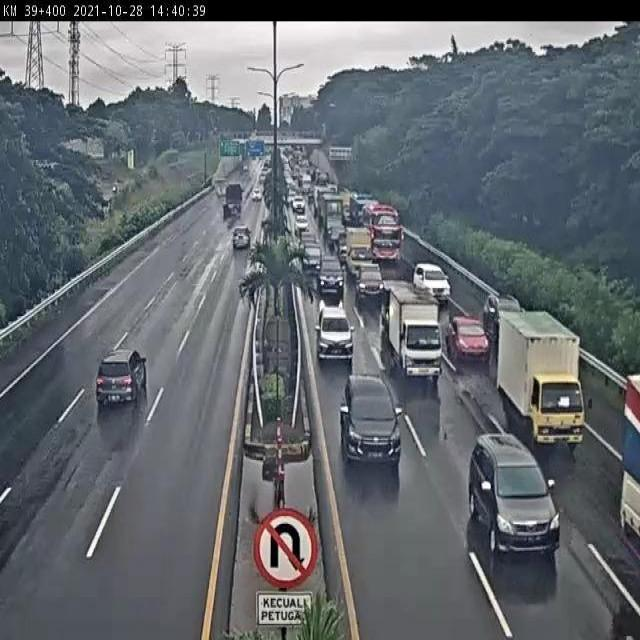car: (468, 432, 562, 555), (340, 374, 404, 462), (95, 350, 149, 406), (315, 305, 355, 364), (446, 313, 490, 360), (483, 292, 525, 332), (413, 262, 451, 306), (315, 252, 345, 297), (357, 265, 387, 303), (232, 224, 252, 251)
truck-m-: (499, 309, 587, 455)
truck-s-: (388, 286, 443, 382)
